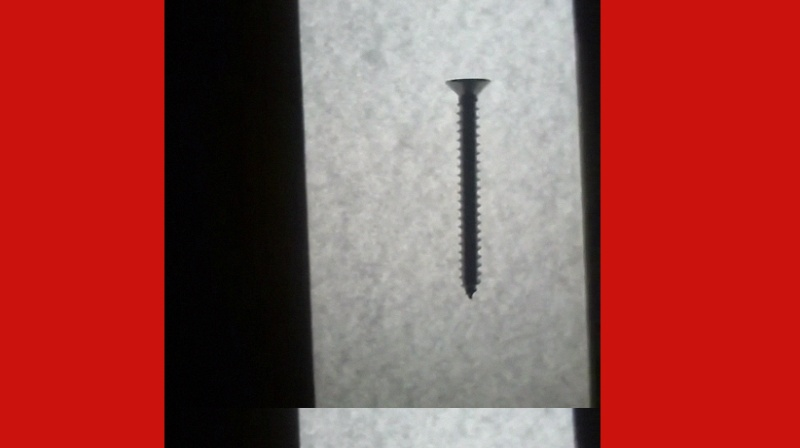S002: (441, 74, 494, 302)
